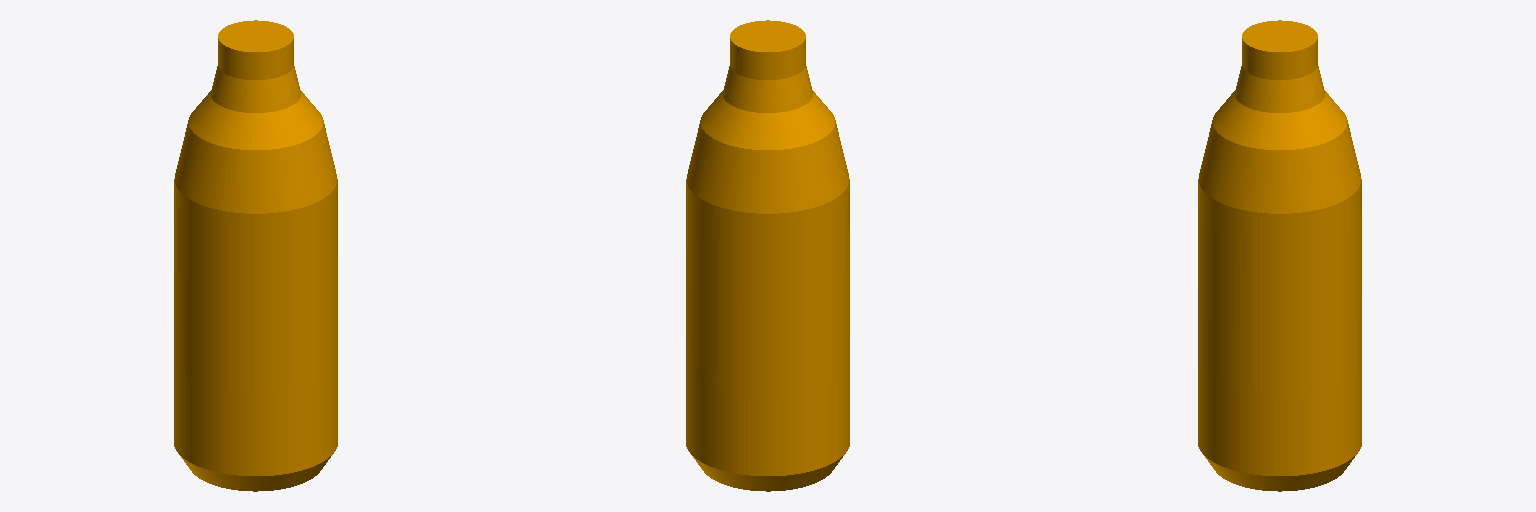
URDF robot description (drink_ad):
<?xml version="1.0"?>
<robot name="drink_ad">
  <link name="base_link">
    <inertial>
      <origin xyz="0 0 0" rpy="0 0 0"/>
      <mass value="0.622000"/>
      <inertia ixx="0.00232732" ixy="0.0" ixz="0.0"
               iyy="0.00232732" iyz="0.0"
               izz="0.00050797"/>
    </inertial>
    <visual>
      <origin xyz="0 0 0" rpy="0 0 0"/>
      <geometry><mesh filename="../mesh/visual_mesh.obj" scale="1 1 1"/></geometry>
    </visual>
    <collision>
      <origin xyz="0 0 0" rpy="0 0 0"/>
      <geometry><mesh filename="../mesh/collision_mesh.obj" scale="1 1 1"/></geometry>
    </collision>
  </link>
</robot>

--- What the picture shows (computed from the rendered views, not written in the file) ---
The picture shows the robot from 3 angles, left to right: view 1: azimuth 30°, elevation 25°; view 2: azimuth 150°, elevation 25°; view 3: azimuth 270°, elevation 25°; orthographic projection.
Model drink_ad with 1 links and 0 joints (none), rooted at base_link, posed every joint at zero.
Links seen in each view (by area): view 1: base_link; view 2: base_link; view 3: base_link.
Link boxes in pixels (x1,y1,x2,y2): base_link: (174, 20, 337, 491); base_link: (686, 20, 849, 491); base_link: (1198, 20, 1361, 491).
Size in the robot's own frame: 0.07 by 0.07 by 0.2 metres.
1 mesh visuals loaded from 1 distinct referenced files (1 OBJ).
